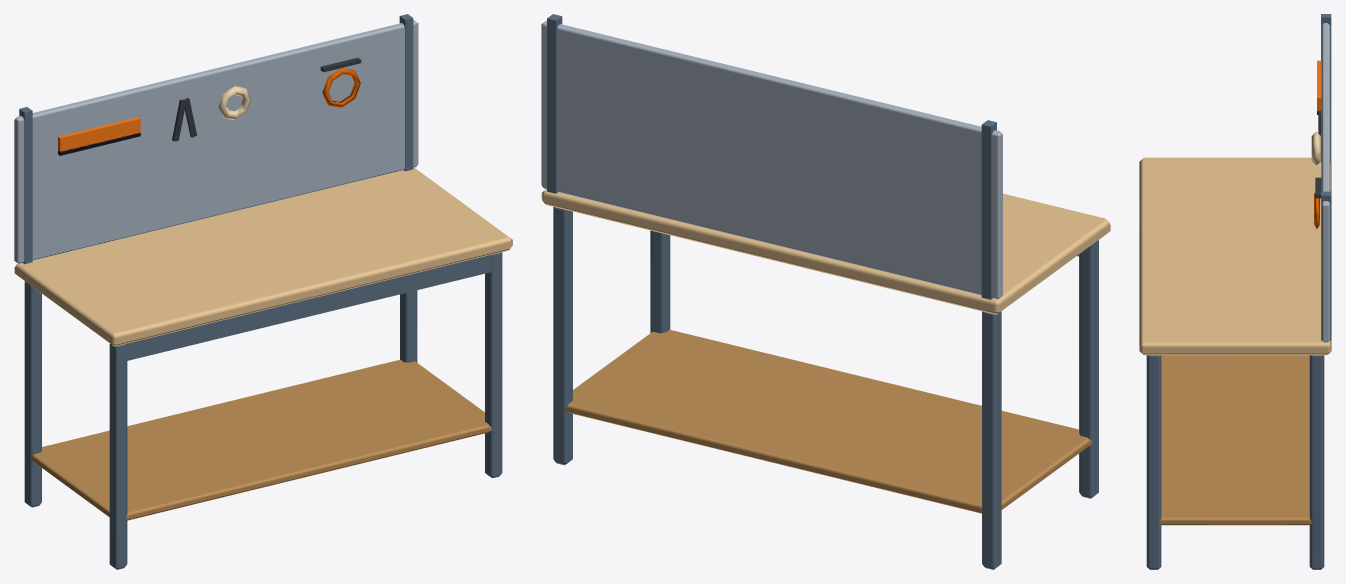
File: station_buffer_basis.glb
The picture shows the model from 3 angles, left to right: view 1: azimuth 30°, elevation 25°; view 2: azimuth 150°, elevation 25°; view 3: azimuth 270°, elevation 25°; orthographic projection. The views are drawn at different scales.
Parts seen in each view (by area): view 1: station_buffer_basis; view 2: station_buffer_basis; view 3: station_buffer_basis.
Part boxes in pixels (<box>): station_buffer_basis: <box>14,14,512,569</box>; station_buffer_basis: <box>541,14,1110,569</box>; station_buffer_basis: <box>1139,14,1331,569</box>.
Bounding box in the file's own units: 1.5 × 1.4 × 0.65.
